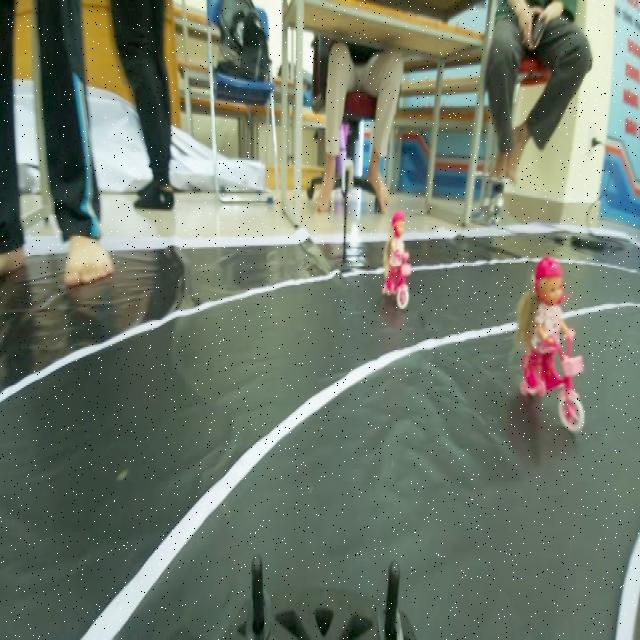pedestrian: (514, 243, 586, 433), (381, 208, 414, 302)
